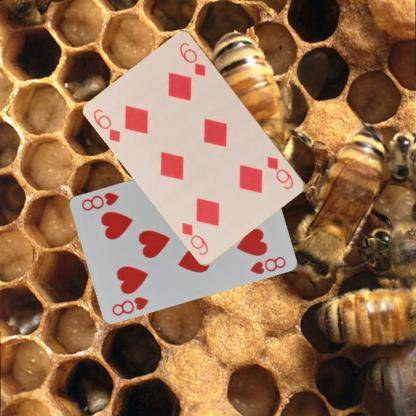6d: (91, 106, 122, 144), (265, 153, 295, 191)
8h: (109, 294, 150, 316)
